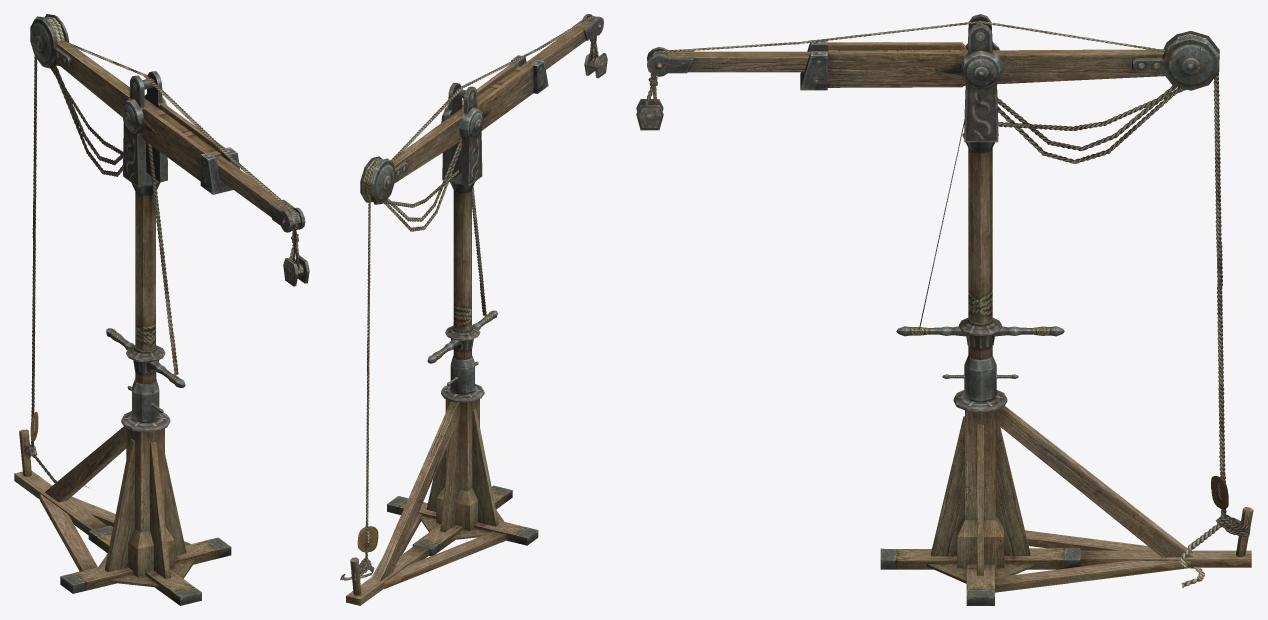
The model's file is bg_lut_crseasho_portprop01_sm_artree.FBX.
3 views of the same model, side by side, from view 1: azimuth 30°, elevation 25°; view 2: azimuth 150°, elevation 25°; view 3: azimuth 270°, elevation 25° (orthographic). The views are drawn at different scales.
Visible parts, largest first — view 1: bg_lut_crseasho_portprop01_sm_artree; view 2: bg_lut_crseasho_portprop01_sm_artree; view 3: bg_lut_crseasho_portprop01_sm_artree.
Part boxes in pixels (bbox=[...]): bg_lut_crseasho_portprop01_sm_artree: bbox=[14, 14, 309, 605]; bg_lut_crseasho_portprop01_sm_artree: bbox=[340, 14, 607, 605]; bg_lut_crseasho_portprop01_sm_artree: bbox=[636, 14, 1253, 605].
Bounding box in the file's own units: 115 × 345 × 353.
